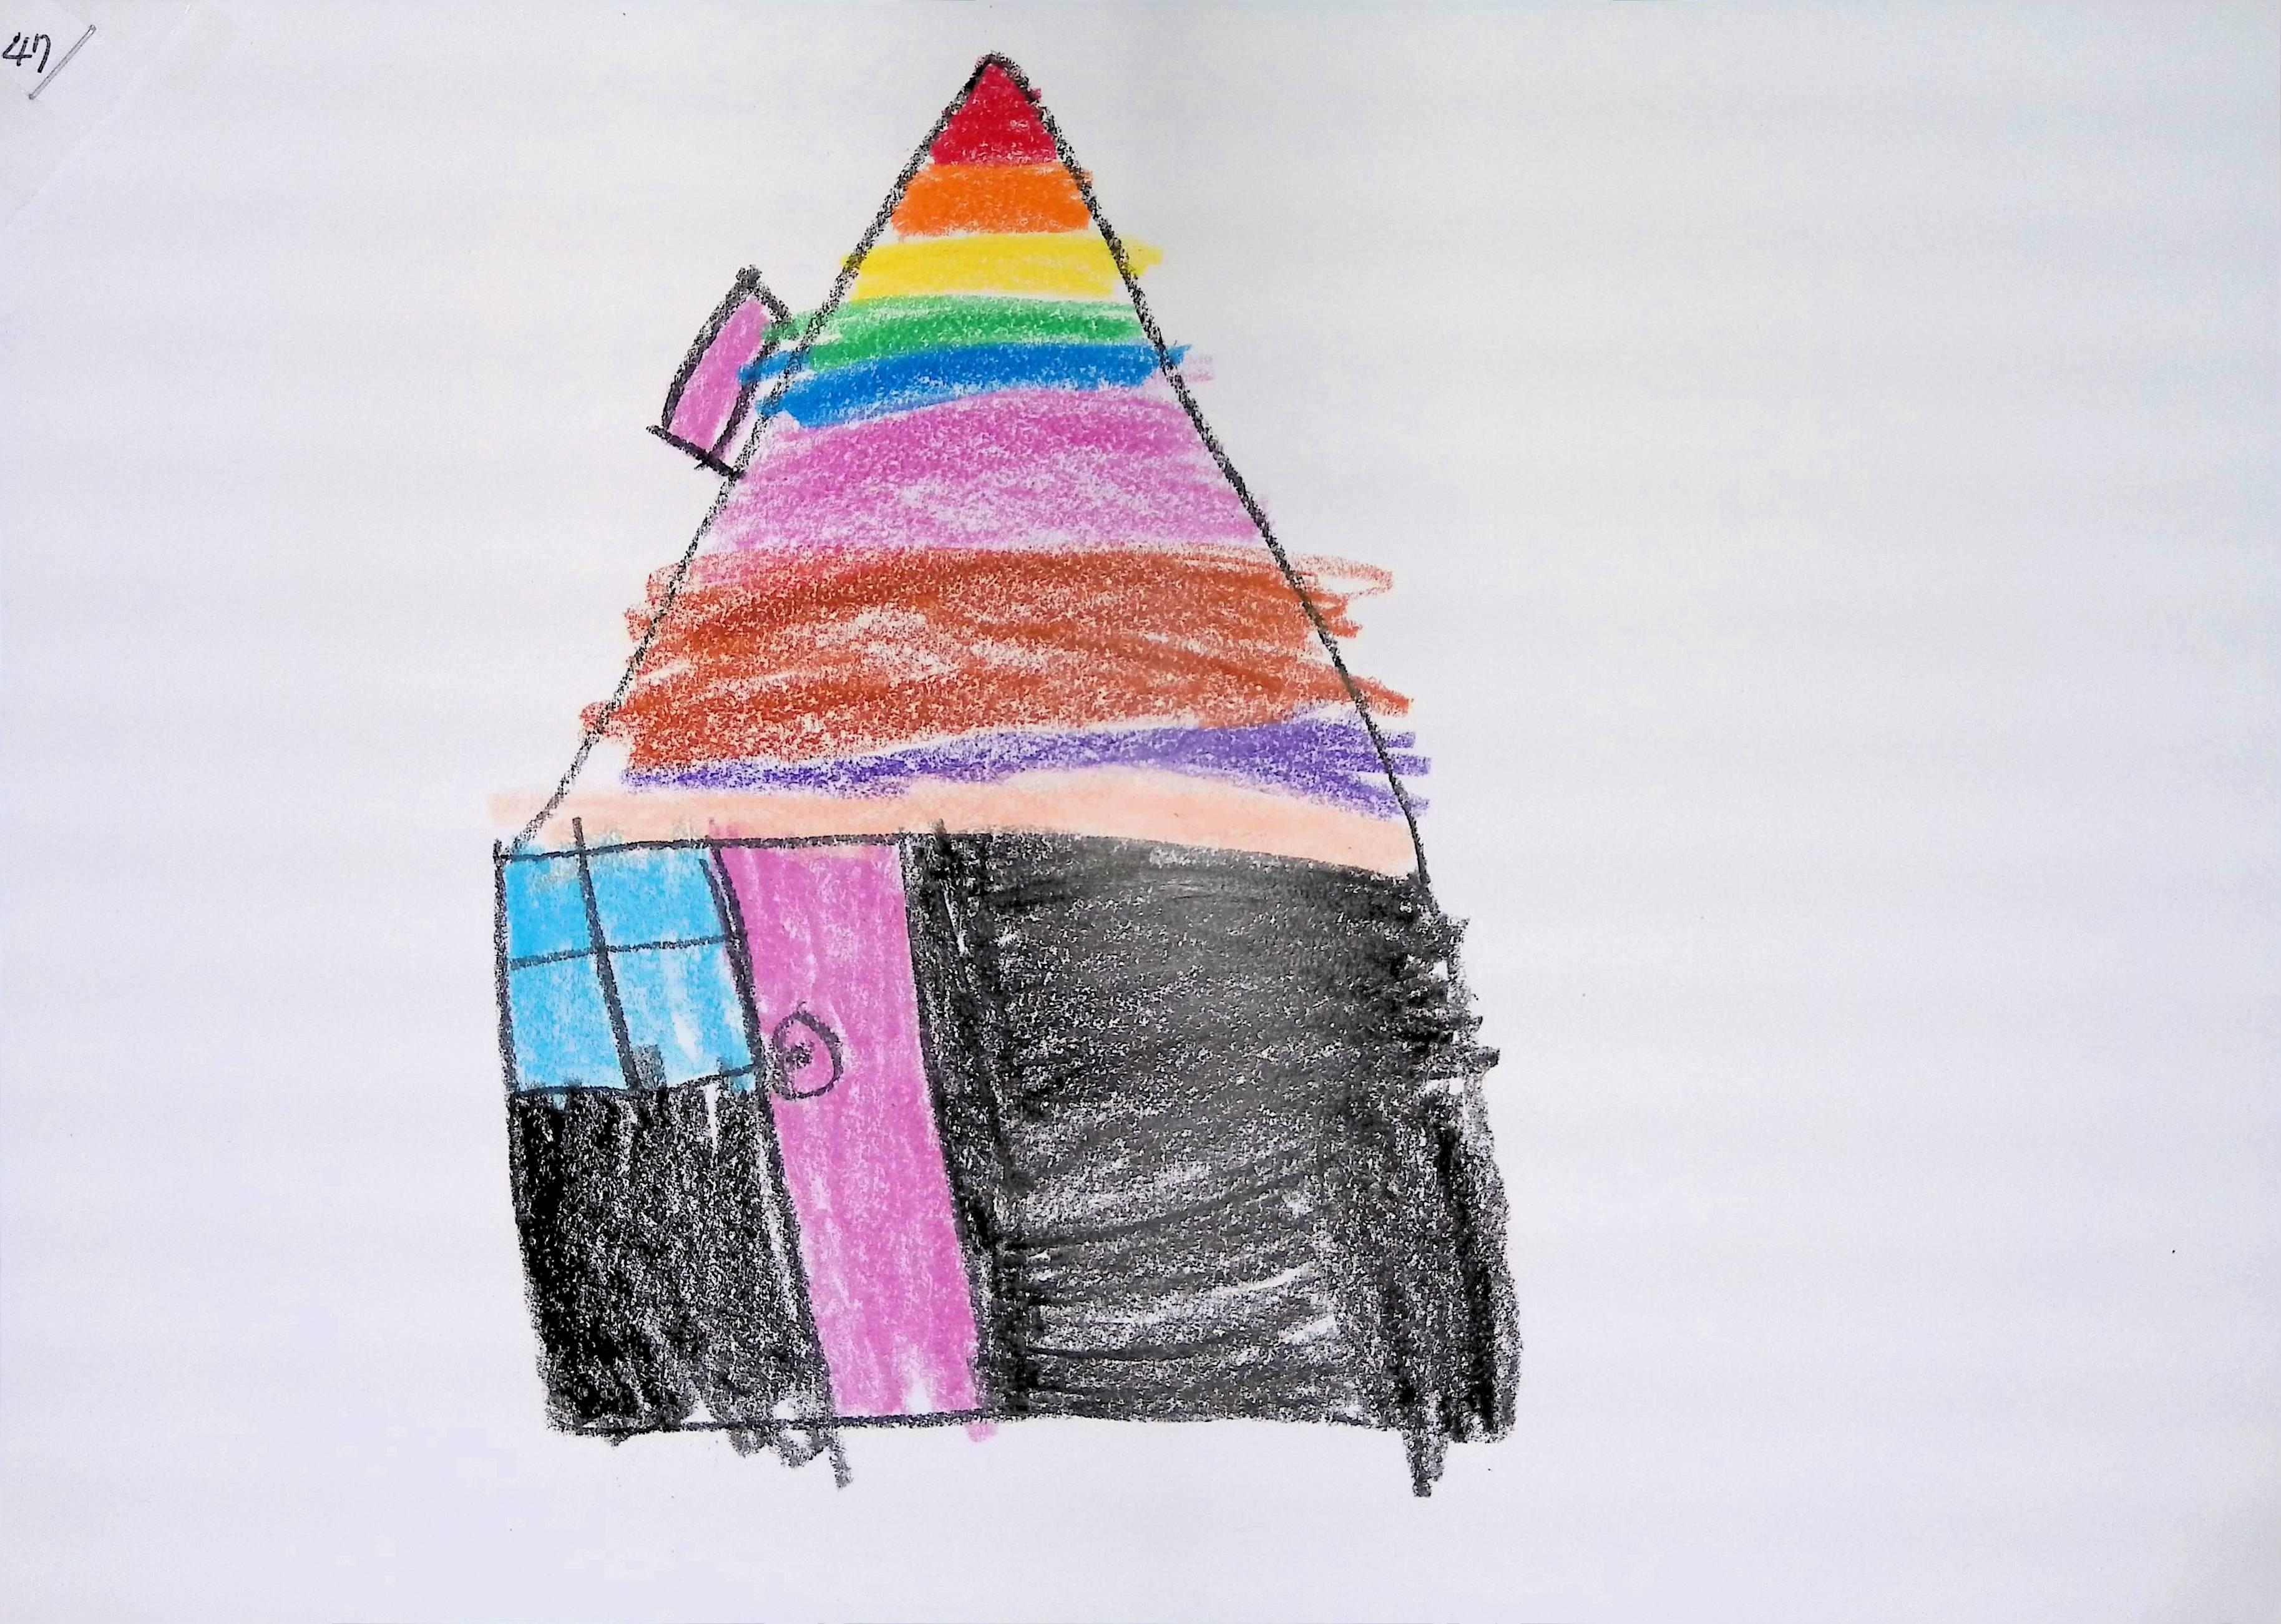chimney: (650, 264, 805, 475)
door: (719, 844, 981, 1418)
house: (496, 53, 1518, 1494)
roof: (487, 53, 1429, 896)
wall: (499, 817, 1518, 1448)
window: (501, 847, 752, 1093)
